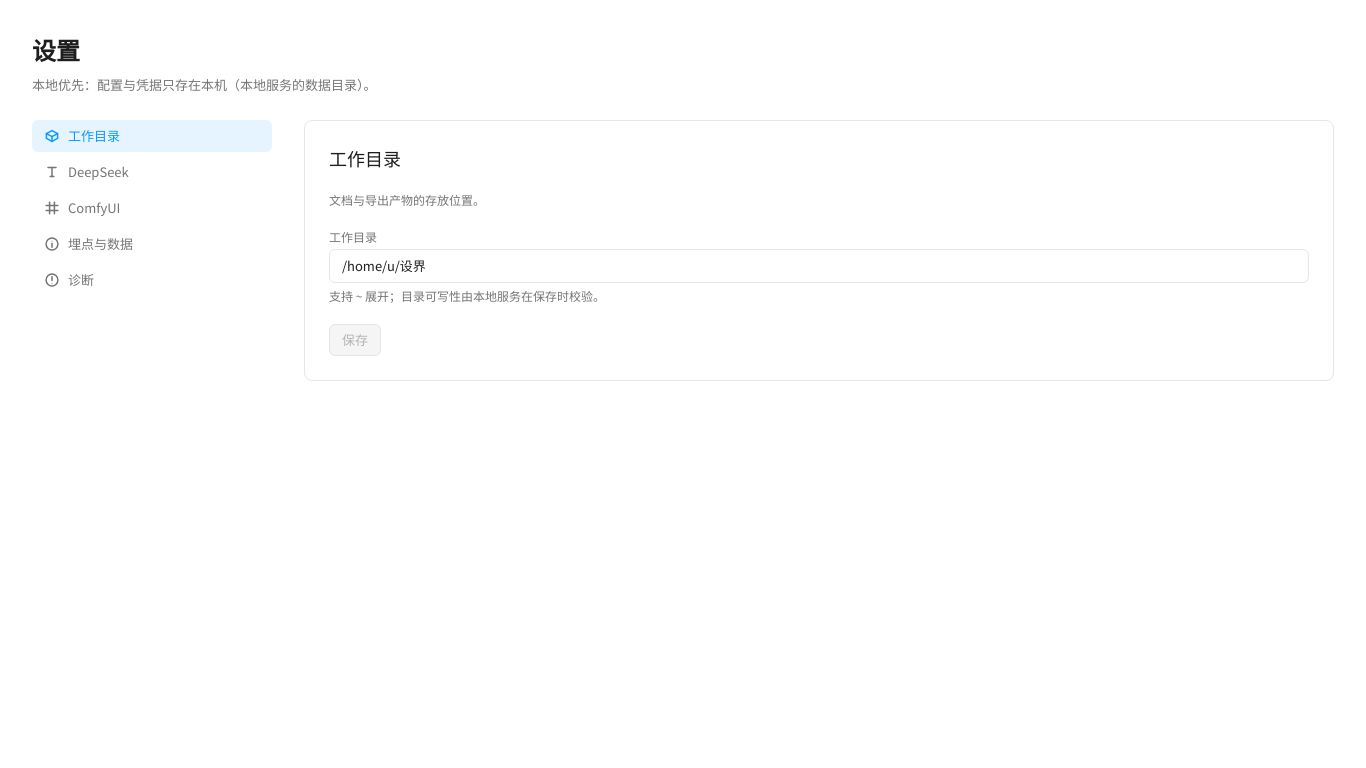
Test: 设置页 · 埋点与数据 › 数据目录展示 daemon 数据根；复制路径弹 Toast
Step 1. Click the button "埋点与数据" → (152, 244), box [32,228,272,260]
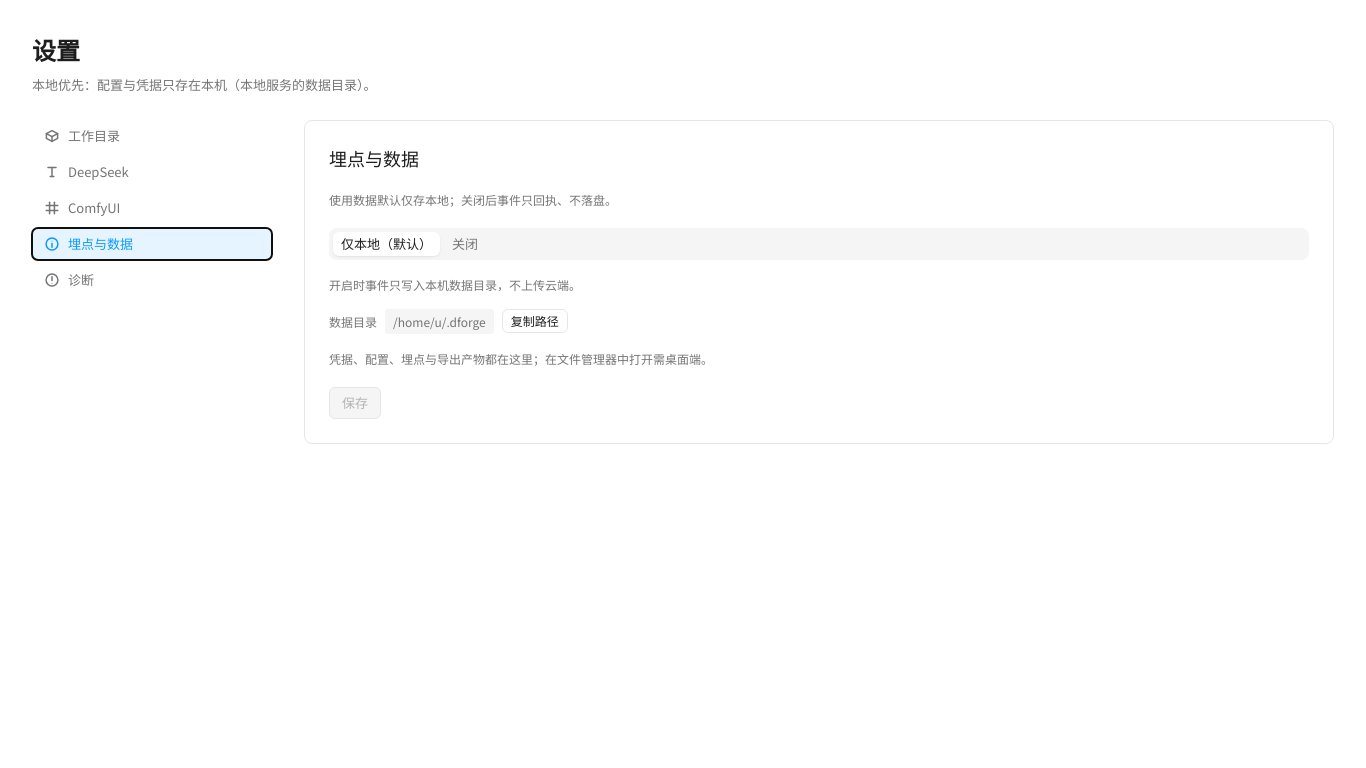
Expected: the text "/home/u/.dforge" is shown, [385,309,494,334]
Step 2. Click the button "复制路径" → (535, 321), box [502,309,568,333]
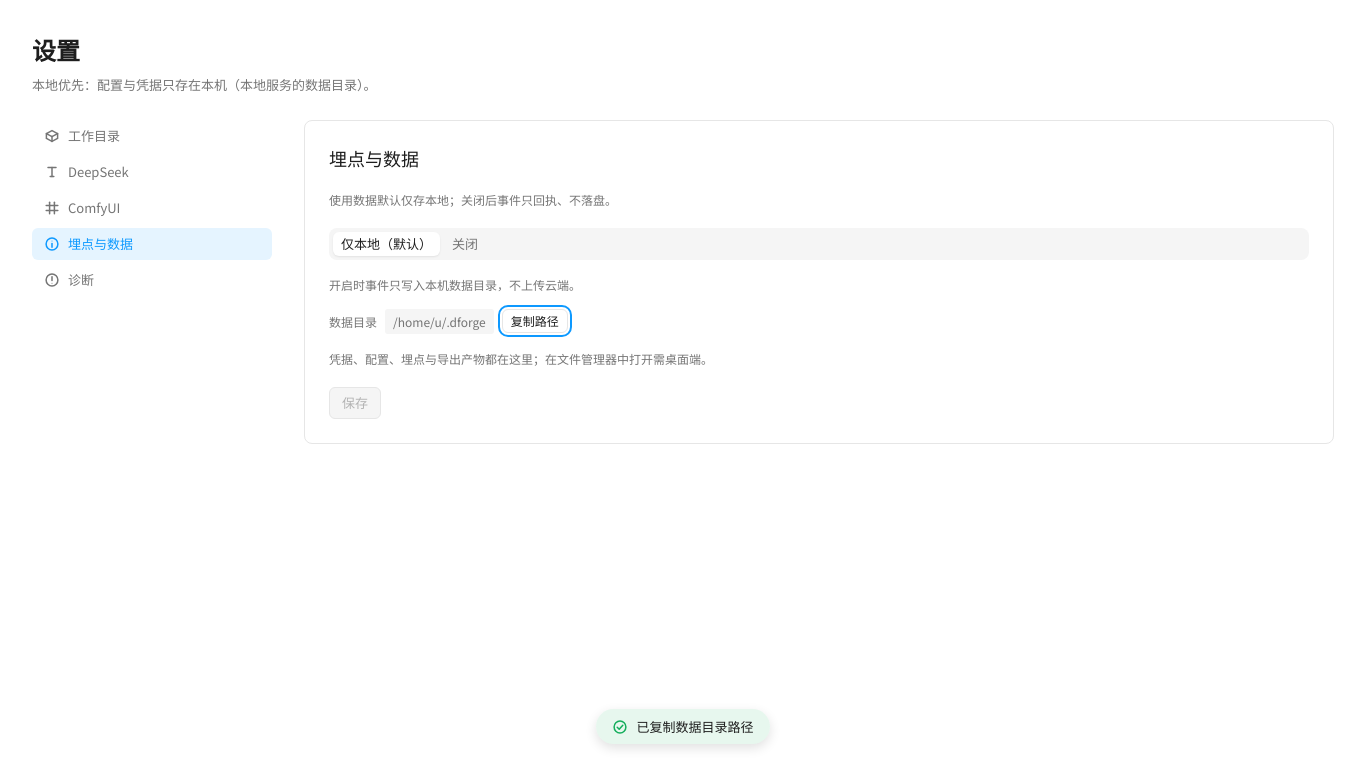
Expected: the text "已复制数据目录路径" is shown, [636,717,754,736]
